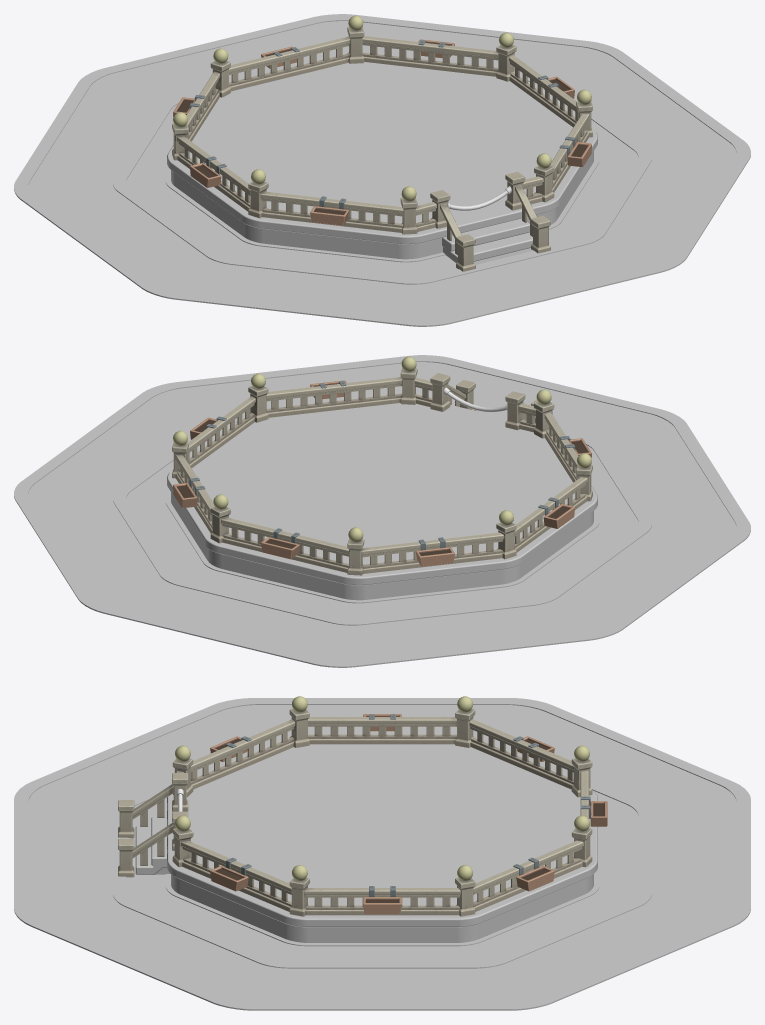
Rendered from SM_Arena.fbx.
3 views of the same model, one above another, from view 1: azimuth 30°, elevation 25°; view 2: azimuth 150°, elevation 25°; view 3: azimuth 270°, elevation 25° (orthographic). The views are drawn at different scales.
Visible parts, largest first — view 1: Base, Fence.004, Fence.002, Fence.005, Fence.008, Stairs, Fence.003, Fence.007, Fence.006, Fence, Planter.003, Fence.001 (+2 smaller); view 2: Base, Fence, Fence.006, Fence.005, Fence.003, Fence.002, Fence.007, Fence.008, Fence.004, Planter.001, Planter, Fence.001 (+2 smaller); view 3: Base, Fence.007, Fence.003, Fence.008, Fence.006, Fence.002, Fence.004, Fence, Stairs, Fence.005, Planter.005, Planter.004 (+3 smaller).
Boxes of the visible parts, bbox=[...] form: Base: bbox=[14, 14, 750, 326]; Fence.004: bbox=[362, 32, 516, 81]; Fence.002: bbox=[416, 171, 550, 271]; Fence.005: bbox=[229, 15, 364, 91]; Fence.008: bbox=[248, 169, 403, 232]; Stairs: bbox=[442, 218, 533, 264]; Fence.003: bbox=[509, 55, 592, 137]; Fence.007: bbox=[172, 112, 250, 211]; Fence.006: bbox=[186, 48, 230, 141]; Fence: bbox=[534, 114, 589, 202]; Planter.003: bbox=[310, 196, 348, 225]; Fence.001: bbox=[400, 186, 417, 234]; Base: bbox=[14, 355, 750, 667]; Fence: bbox=[266, 356, 417, 417]; Fence.006: bbox=[347, 527, 504, 575]; Fence.005: bbox=[210, 494, 348, 572]; Fence.003: bbox=[187, 373, 268, 468]; Fence.002: bbox=[414, 373, 550, 432]; Fence.007: bbox=[496, 477, 587, 559]; Fence.008: bbox=[544, 412, 592, 501]; Fence.004: bbox=[172, 430, 214, 533]; Planter.001: bbox=[416, 537, 454, 566]; Planter: bbox=[261, 528, 299, 559]; Fence.001: bbox=[534, 389, 554, 438]; Base: bbox=[14, 698, 750, 1010]; Fence.007: bbox=[308, 696, 475, 747]; Fence.003: bbox=[289, 865, 460, 916]; Fence.008: bbox=[191, 696, 309, 789]; Fence.006: bbox=[469, 719, 592, 797]; Fence.002: bbox=[118, 770, 188, 877]; Fence.004: bbox=[455, 840, 583, 916]; Fence: bbox=[172, 815, 291, 911]; Stairs: bbox=[126, 816, 170, 874]; Fence.005: bbox=[571, 770, 592, 867]; Planter.005: bbox=[363, 886, 401, 914]; Planter.004: bbox=[210, 857, 251, 891].
Size of the model in its own units: 1786 by 197 by 1786.
